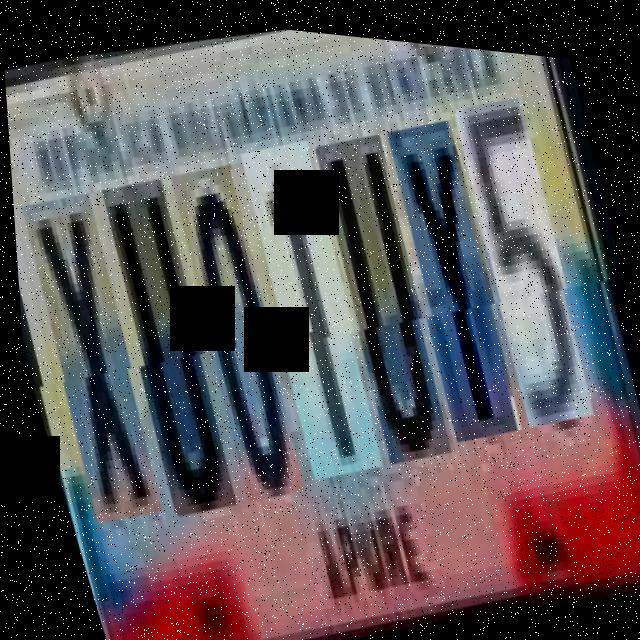1: (227, 132, 399, 482)
5: (445, 87, 614, 429)
O: (160, 157, 322, 504)
U: (88, 172, 251, 519), (305, 125, 470, 466)
X: (10, 185, 178, 527)
Y: (376, 110, 539, 443)
